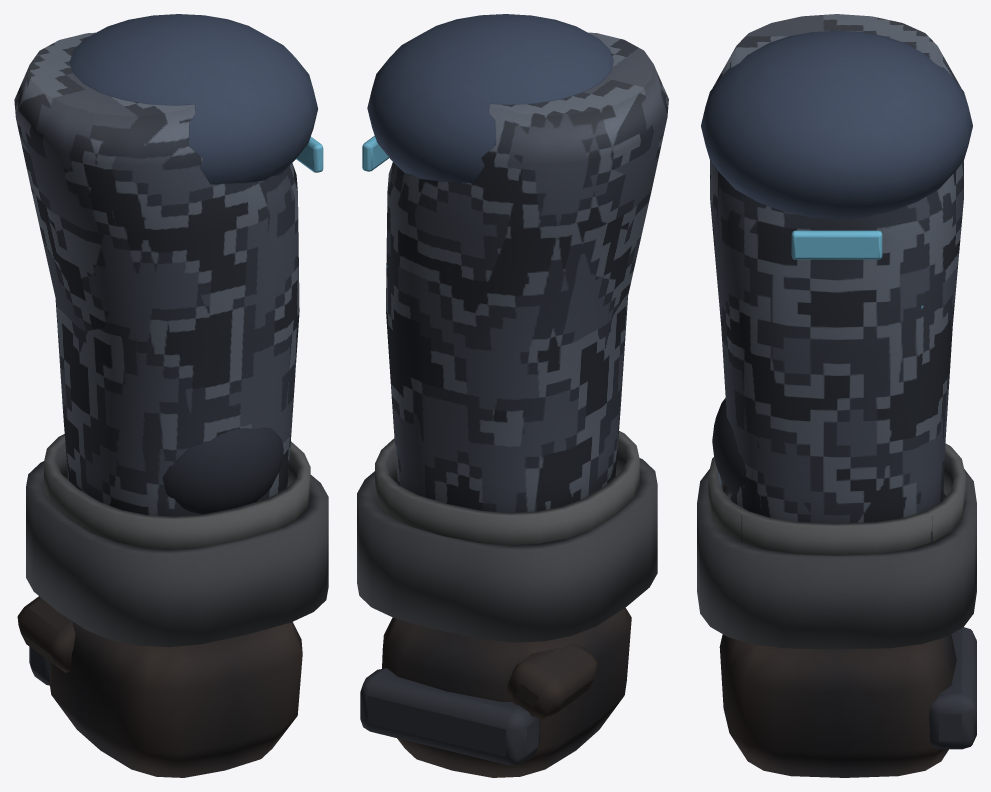
The model's file is Bravo_Arm.glb.
3 renders of one model, left to right at view 1: azimuth 30°, elevation 25°; view 2: azimuth 150°, elevation 25°; view 3: azimuth 270°, elevation 25°, orthographic.
Parts seen in each view (by area): view 1: Bravo_Arm_body; view 2: Bravo_Arm_body; view 3: Bravo_Arm_body.
Boxes of the visible parts, x1,y1,x2,y2 form: Bravo_Arm_body: [14, 14, 328, 777]; Bravo_Arm_body: [357, 14, 668, 777]; Bravo_Arm_body: [697, 14, 976, 777].
Size of the model in its own units: 0.805 by 2.02 by 0.74.
1 material, 1 textured.
